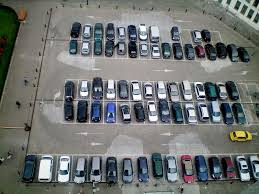car: (119, 156, 135, 185), (182, 153, 196, 184), (193, 154, 209, 181), (151, 151, 165, 181), (166, 155, 180, 184), (89, 155, 103, 182), (38, 156, 53, 181), (221, 102, 236, 126), (183, 104, 200, 125), (137, 156, 150, 183), (106, 156, 118, 184), (209, 157, 223, 181), (223, 157, 238, 179), (159, 101, 172, 125), (23, 154, 34, 181), (146, 101, 158, 125), (235, 103, 247, 127), (61, 157, 72, 183), (129, 80, 143, 100), (238, 156, 249, 181), (119, 103, 132, 124), (91, 77, 103, 99), (250, 155, 259, 183), (126, 22, 139, 41), (182, 79, 193, 101), (78, 79, 90, 99), (117, 80, 129, 100), (228, 42, 239, 63), (173, 103, 184, 124), (239, 44, 251, 63), (206, 81, 218, 100), (216, 82, 228, 101), (228, 80, 240, 99), (64, 80, 75, 100), (148, 24, 160, 42), (171, 25, 183, 43), (212, 100, 221, 124), (77, 157, 85, 183), (138, 42, 150, 59), (91, 102, 101, 122), (106, 102, 116, 122), (104, 40, 115, 58), (170, 83, 181, 101), (64, 102, 75, 120), (188, 28, 201, 43), (79, 40, 91, 56), (138, 22, 148, 41), (195, 82, 205, 101), (106, 79, 115, 100), (199, 101, 208, 122), (143, 82, 154, 99), (202, 28, 215, 42), (106, 21, 116, 39), (184, 45, 196, 60), (161, 43, 172, 59), (206, 43, 217, 59), (135, 102, 143, 124), (94, 21, 104, 38), (157, 82, 167, 99), (128, 42, 138, 58), (80, 100, 87, 122), (175, 41, 183, 60), (117, 22, 125, 40), (70, 40, 78, 57), (196, 45, 206, 58), (72, 21, 80, 37), (117, 41, 125, 57), (83, 23, 91, 38), (151, 45, 160, 58), (219, 43, 225, 60), (95, 40, 101, 56)
